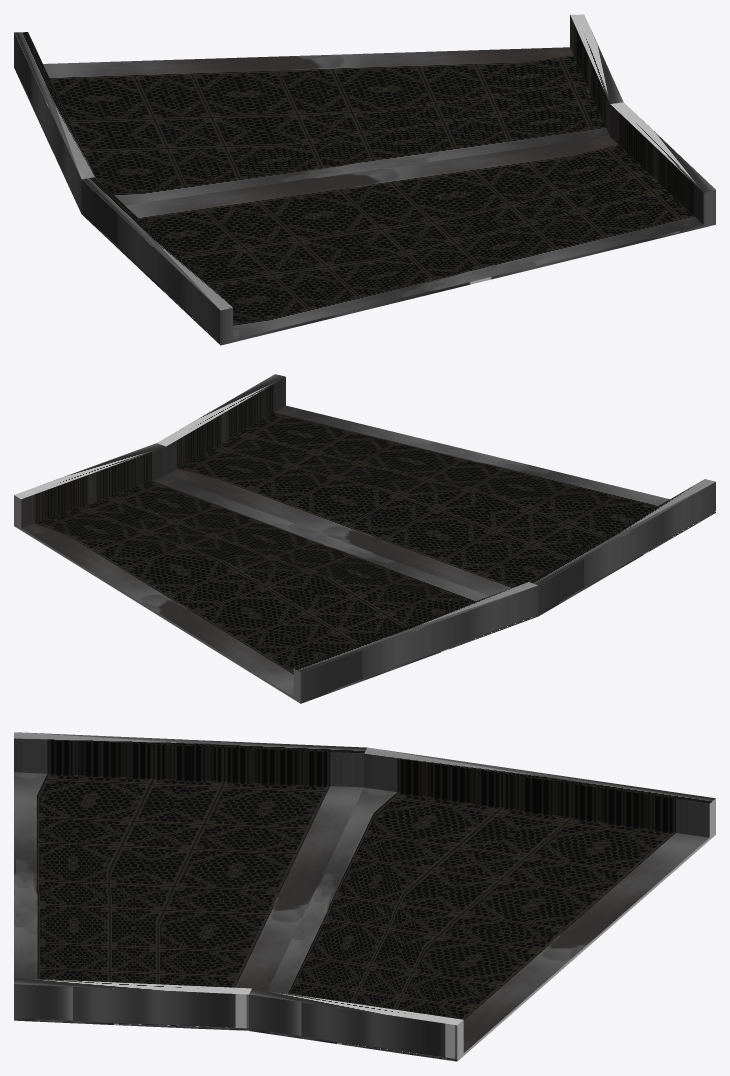
File: TrackTurnWideSection.fbx
3 renders of one model, top to bottom at view 1: azimuth 30°, elevation 25°; view 2: azimuth 150°, elevation 25°; view 3: azimuth 270°, elevation 25°, orthographic. The views are drawn at different scales.
Visible parts, largest first — view 1: Track; view 2: Track; view 3: Track.
Part boxes in pixels (x1=…): Track: x1=14, y1=14, x2=715, y2=345; Track: x1=14, y1=374, x2=715, y2=703; Track: x1=14, y1=732, x2=715, y2=1061.
Bounding box in the file's own units: 4653 × 270 × 4708.
Materials: 1 (1 with a texture image).
